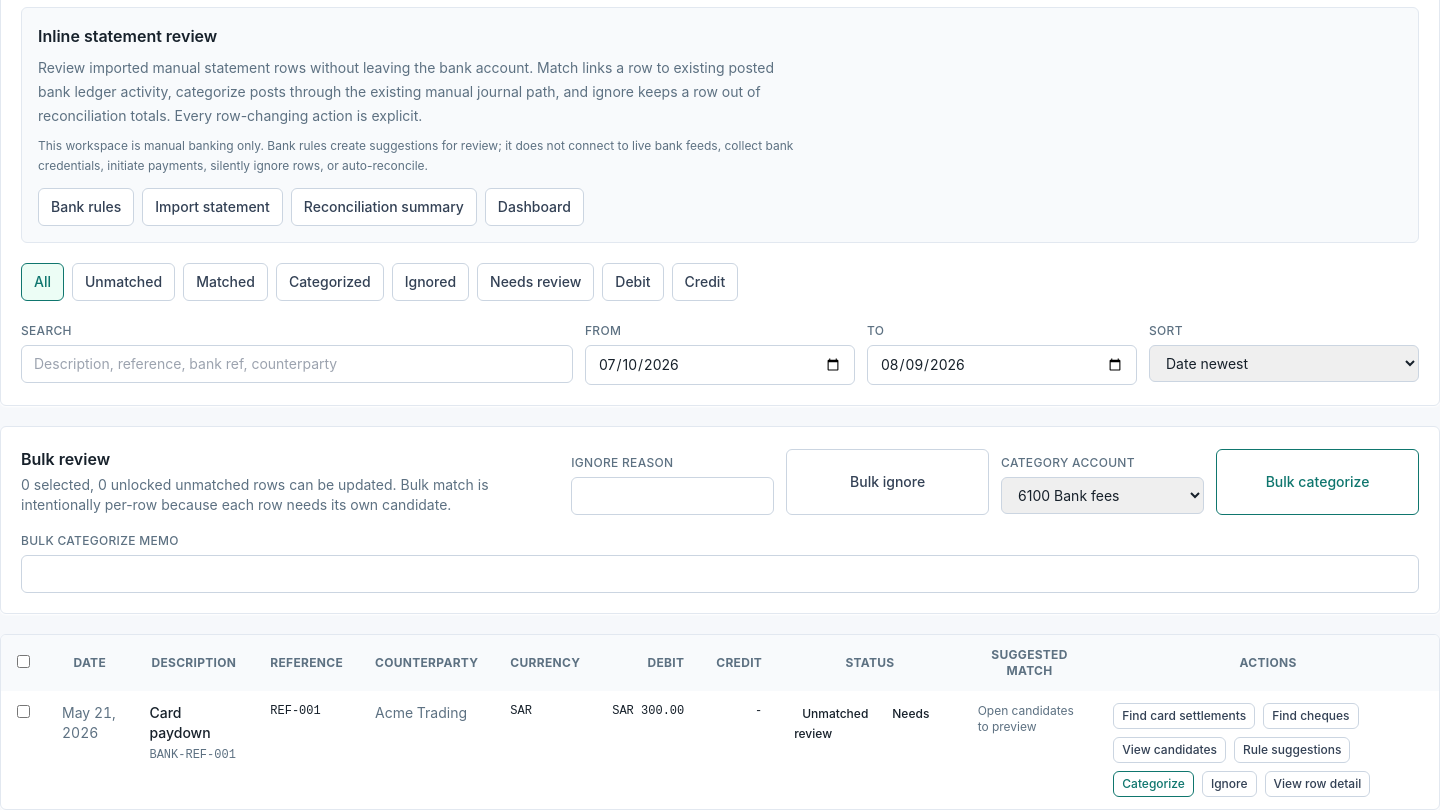
Test: BankStatementTransactionsPage › loads card settlement candidates without auto-matching statement rows
The image size is (1440, 810).
(page scrolled)
Click the button "Find card settlements".
click(1184, 716)  # box [1113,703,1255,729]
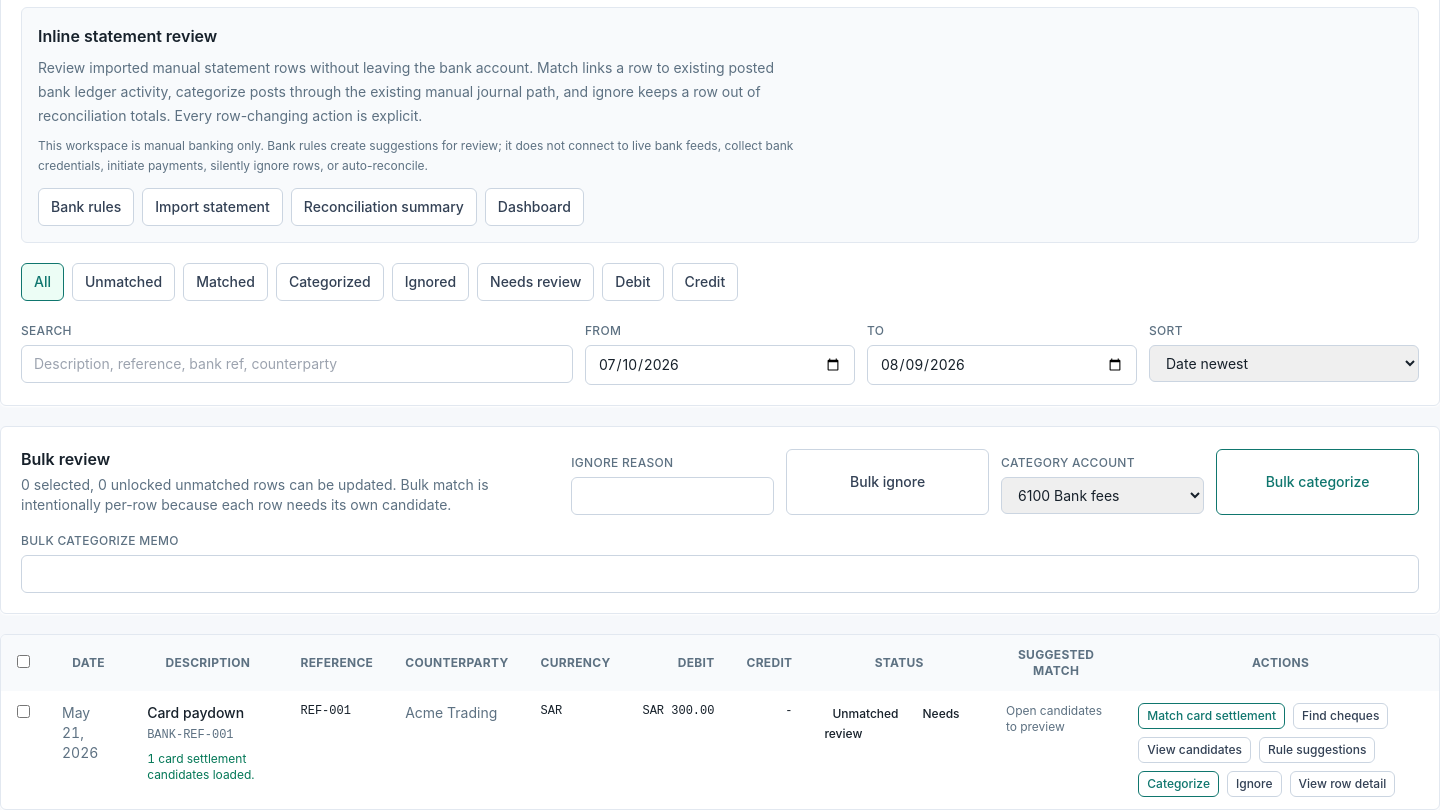
expect the text "1 card settlement candidates loaded." is shown: met, box [147,751,269,783]
